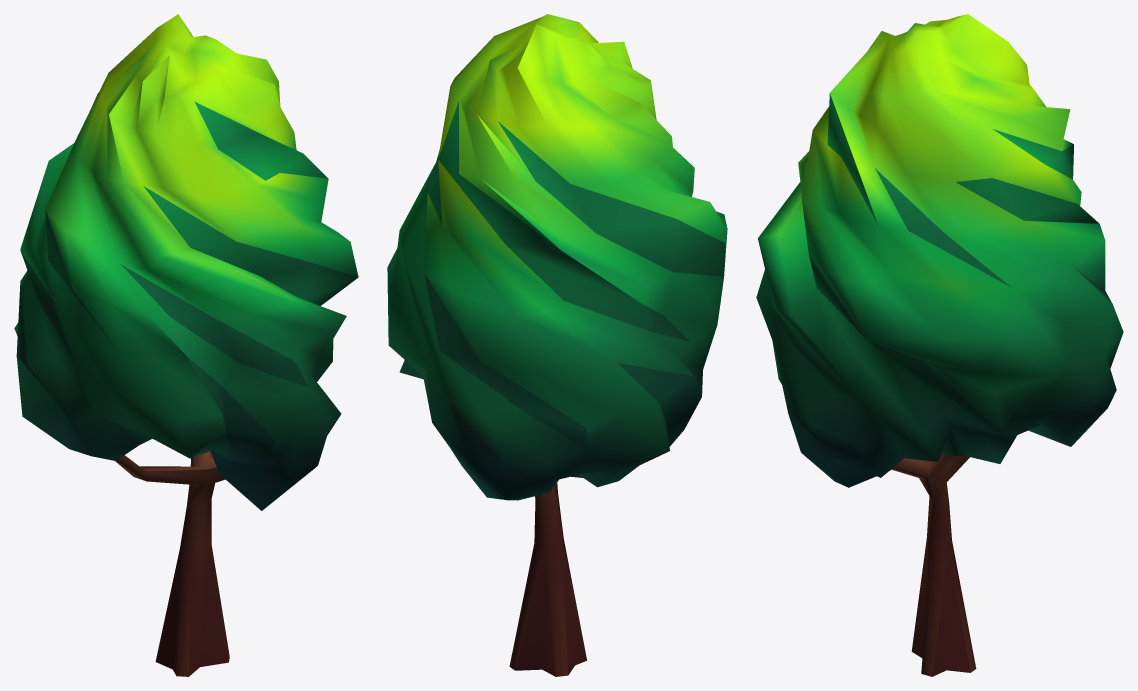
Rendered from Tree_1M.fbx.
3 views of the same model, side by side, from view 1: azimuth 30°, elevation 25°; view 2: azimuth 150°, elevation 25°; view 3: azimuth 270°, elevation 25° (orthographic).
Parts seen in each view (by area): view 1: Tree_1M; view 2: Tree_1M; view 3: Tree_1M.
Part boxes in pixels (bbox=[...]): Tree_1M: bbox=[14, 14, 358, 676]; Tree_1M: bbox=[387, 14, 727, 676]; Tree_1M: bbox=[756, 14, 1123, 676].
Size of the model in its own units: 6.71 by 14.11 by 7.27.
